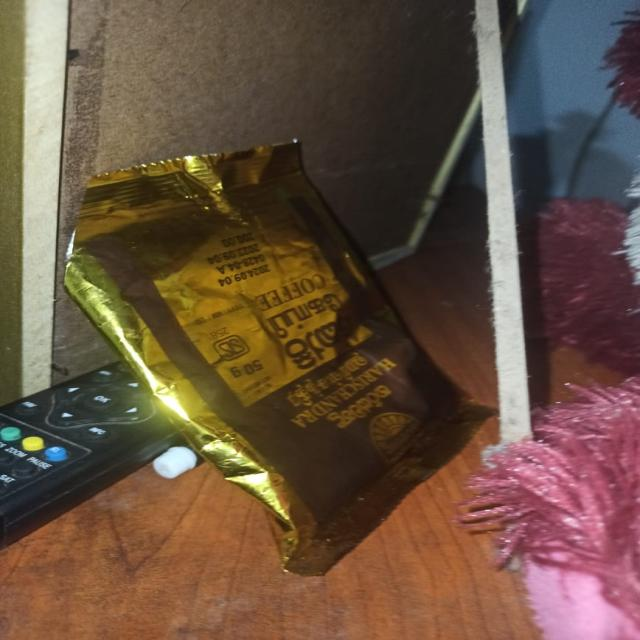Central Tea: (79, 227, 498, 494)
